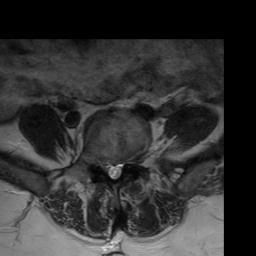CCS_stenosis: (111, 158, 117, 184)
LFS_stenosis: (125, 153, 132, 170)
LLS_normal: (118, 158, 124, 178)
RFS_normal: (98, 153, 107, 174)
RLS_normal: (106, 158, 112, 179)
